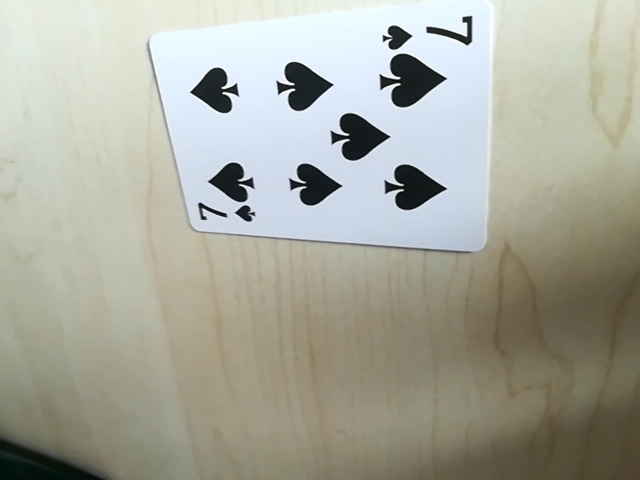ht 7: (383, 9, 480, 50), (192, 199, 261, 230)
